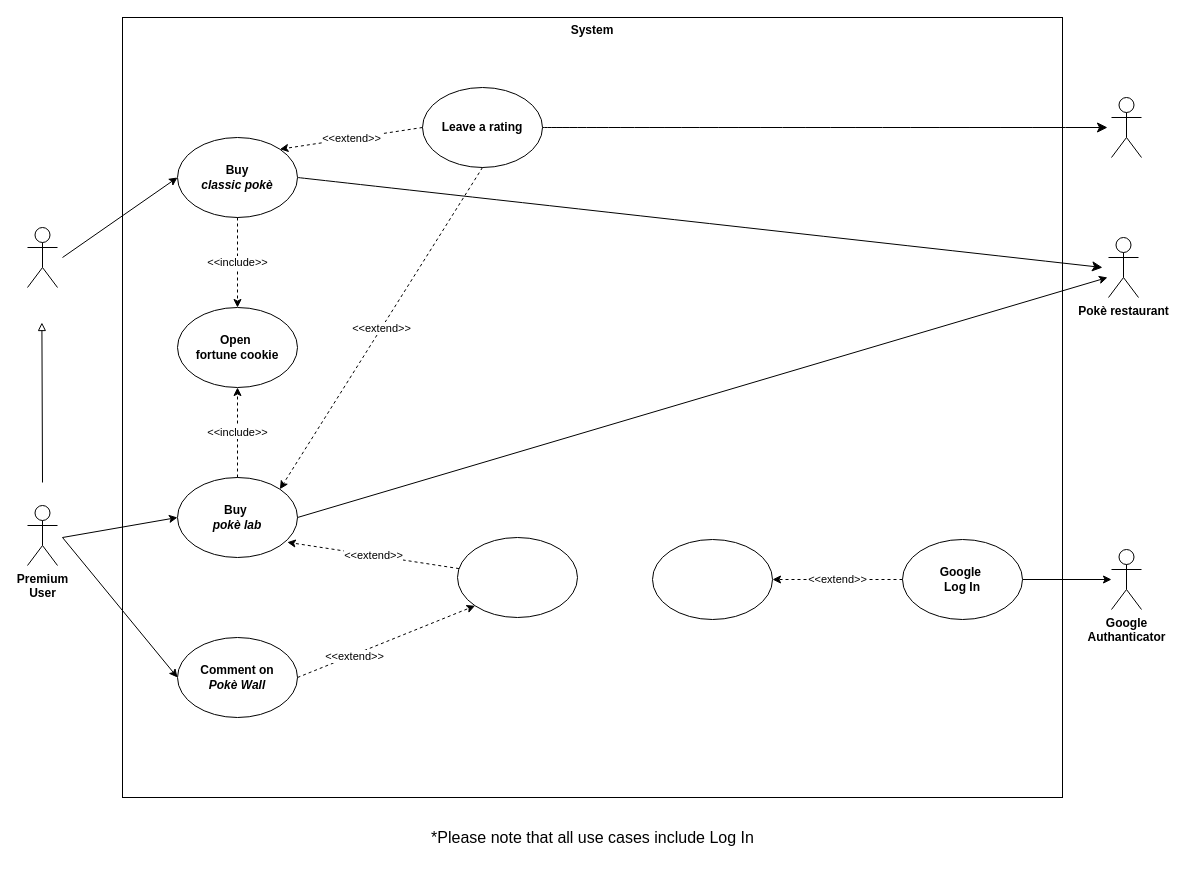
Image size: 1186x870. Some labels were removed from this diagram. The centre of each missing label's shape, as x and y in pixels:
"*Log-In" belongs at point (712, 579).
"Post on Pokè Wall" belongs at point (517, 577).
"TripAdvisor" belongs at point (1126, 127).
"User" belongs at point (42, 257).
